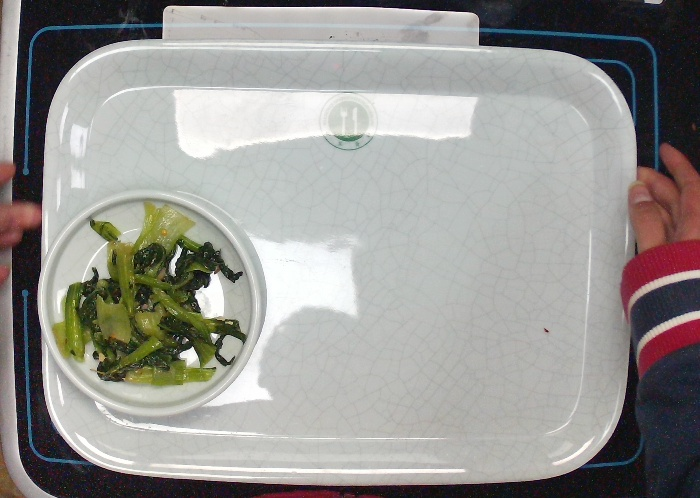JYsf-Xiao_Yuan_Pan: (33, 182, 268, 420)
